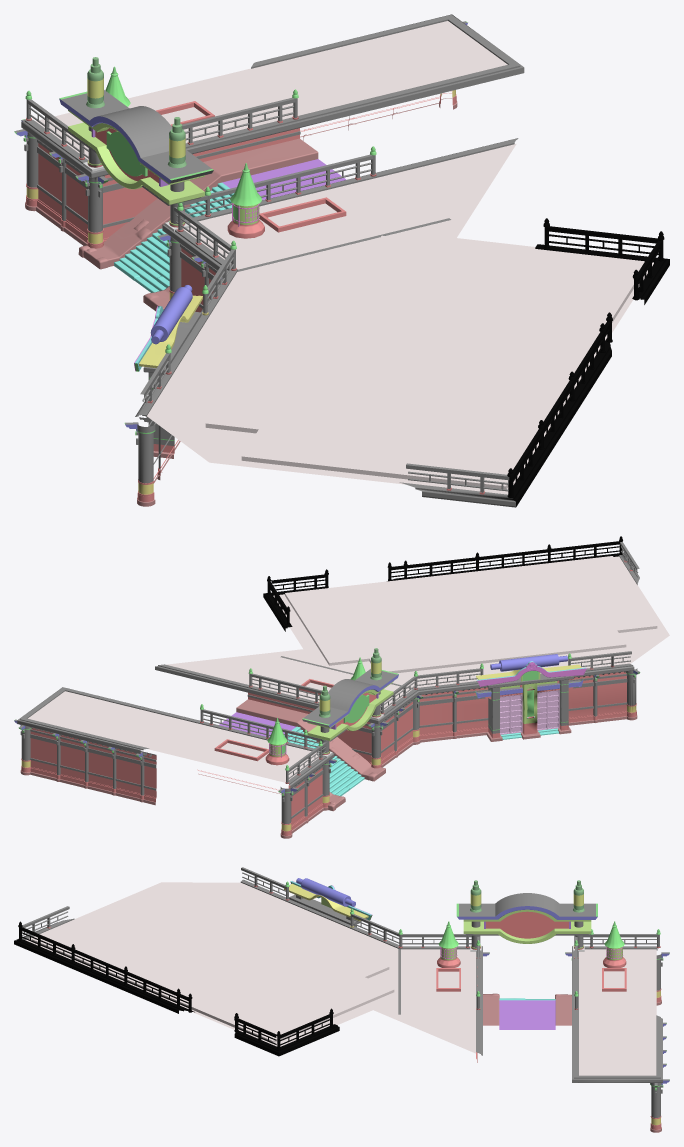
Rendered from SM_ENV_KNVLLG03_Bridge_PlatformB.gltf.
3 views of the same model, one above another, from view 1: azimuth 30°, elevation 25°; view 2: azimuth 150°, elevation 25°; view 3: azimuth 270°, elevation 25° (orthographic). The views are drawn at different scales.
Visible parts, largest first — view 1: SM_ENV_KNVLLG03_Bridge_PlatformB; view 2: SM_ENV_KNVLLG03_Bridge_PlatformB; view 3: SM_ENV_KNVLLG03_Bridge_PlatformB.
Part boxes in pixels (left/top/right/bottom): SM_ENV_KNVLLG03_Bridge_PlatformB: left=14, top=14, right=669, bottom=507; SM_ENV_KNVLLG03_Bridge_PlatformB: left=14, top=536, right=669, bottom=838; SM_ENV_KNVLLG03_Bridge_PlatformB: left=14, top=867, right=669, bottom=1132.
Size of the model in its own units: 49.16 by 13.62 by 66.27.
